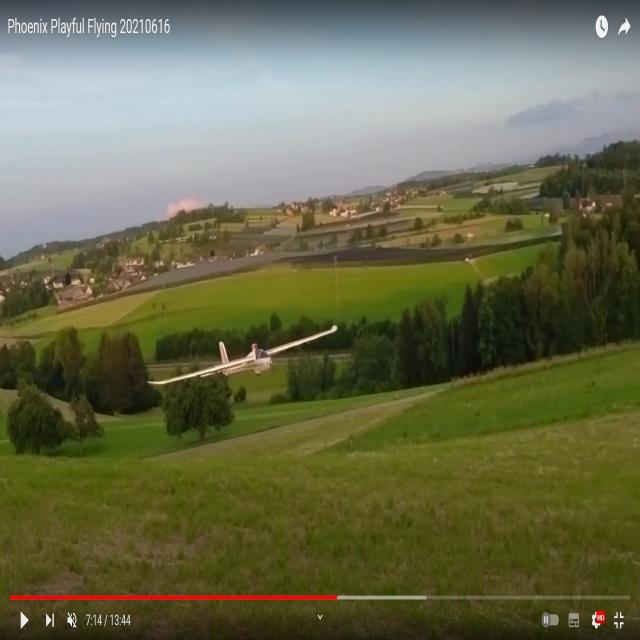iha: (149, 349, 340, 367)
